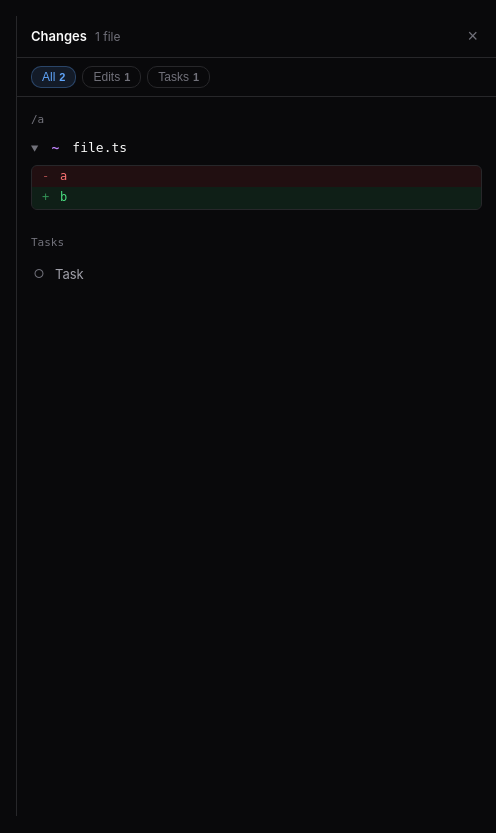
Test: ChangesPanel › Tasks filter shows only tasks section
The image size is (496, 833).
Click the button with class "chat-changes-chip" showing "Tasks 1": point(179, 77) x1=147 y1=66 x2=210 y2=88
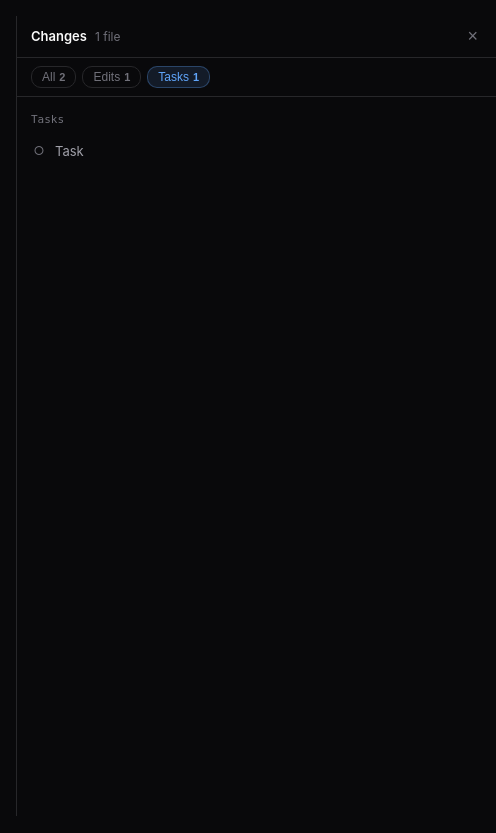
Expected: the number of elements with class "chat-changes-todo" is 1, x1=34 y1=143 x2=84 y2=159
Expected: no elements with class "chat-changes-file-block" are shown
